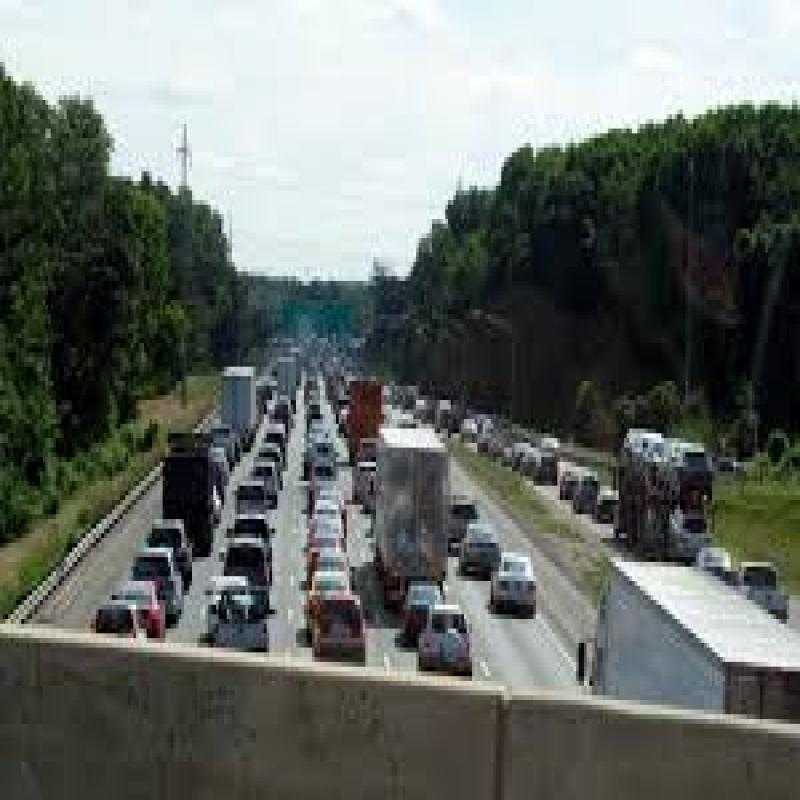car: (312, 591, 368, 684), (415, 603, 469, 690), (212, 584, 264, 652), (93, 582, 112, 619)
